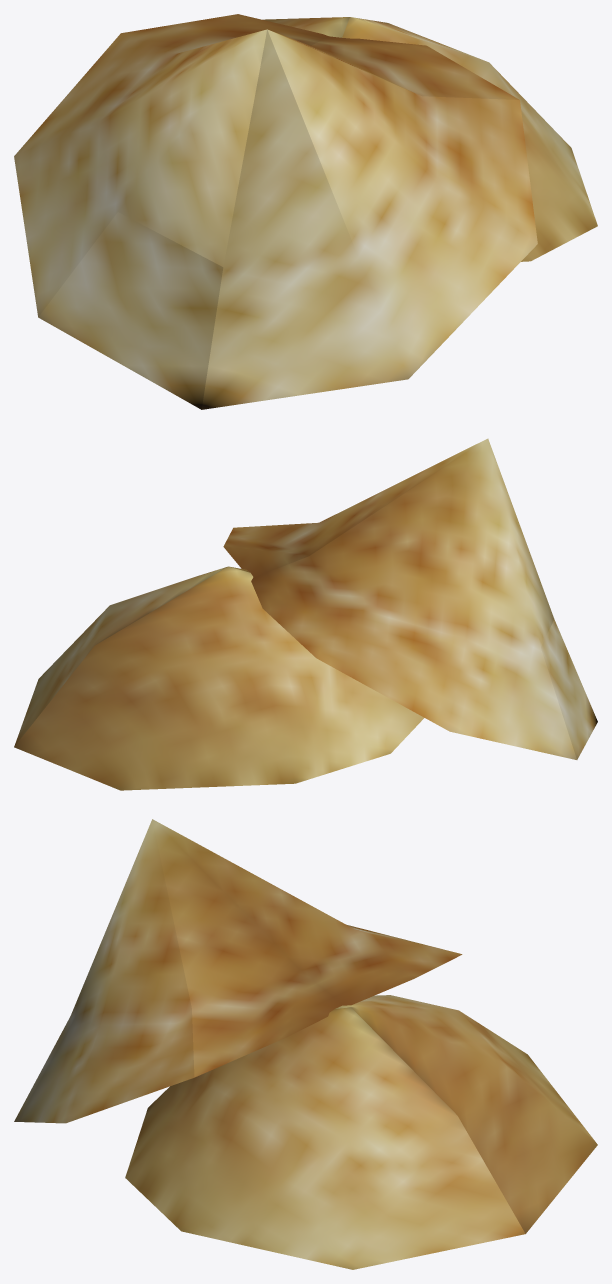
The model's file is SMSH_Shell_8.FBX.
3 views of the same model, one above another, from view 1: azimuth 30°, elevation 25°; view 2: azimuth 150°, elevation 25°; view 3: azimuth 270°, elevation 25° (orthographic). The views are drawn at different scales.
Visible parts, largest first — view 1: Ytlds_Shell_8; view 2: Ytlds_Shell_8; view 3: Ytlds_Shell_8.
Part boxes in pixels (x1,y1,x2,y2): Ytlds_Shell_8: [14, 14, 597, 409]; Ytlds_Shell_8: [14, 438, 597, 790]; Ytlds_Shell_8: [14, 819, 597, 1269].
Size of the model in its own units: 16.38 by 8.94 by 15.92.
